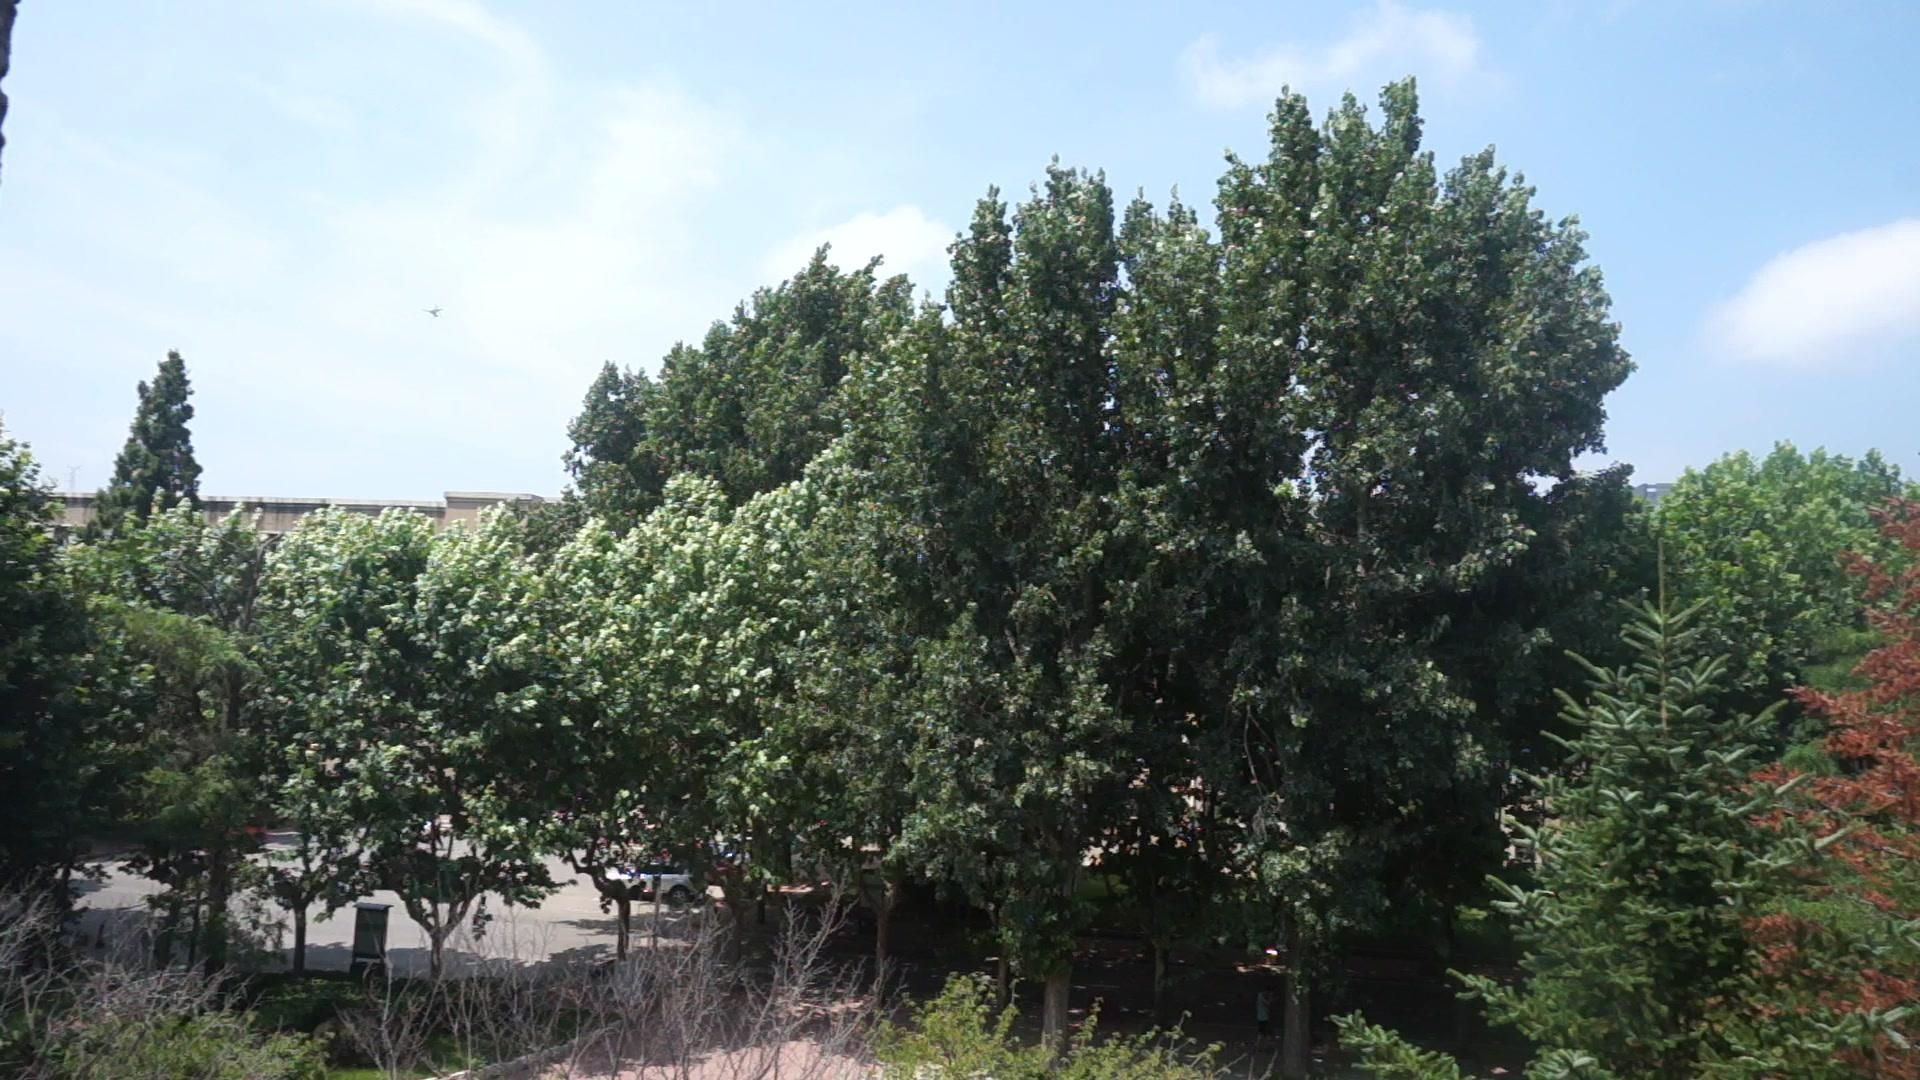UAV: (425, 307, 444, 318)
